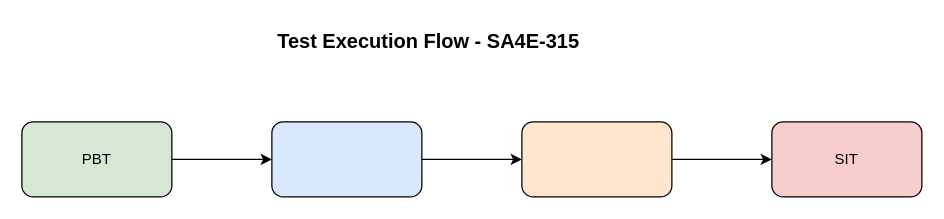
This 944x219 diagram has some shape labels left out. The shapes that lost their labels are listed below. From the top down, each one's centre as x and y in pixels, then its label:
pixel 346 159: UT
pixel 596 159: IT
